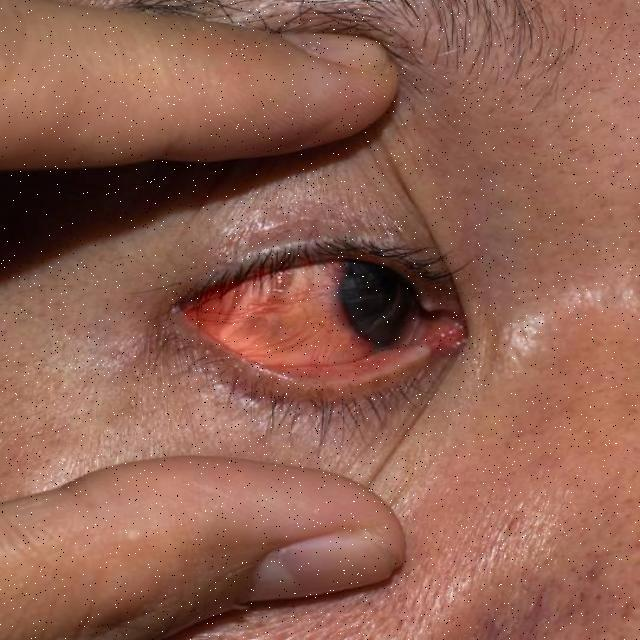Conjunctivitis: (183, 252, 469, 386)
